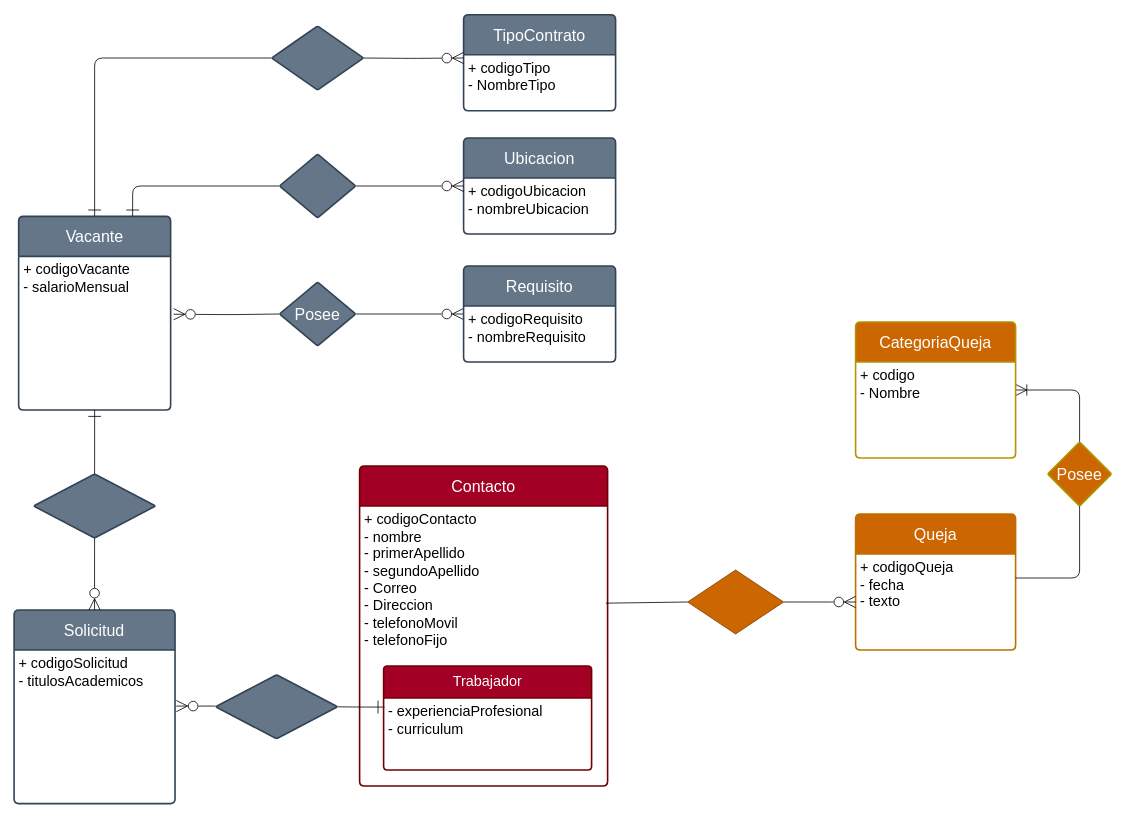
Image size: 1126x818. Some labels were removed from this diagram. Here are the shapes that lost their labels. From the top down, the centre of each, then its label:
(317,57): Clasifica
(317,185): Radica
(94,505): Ocupa
(735,601): Emite
(276,706): Solicita
